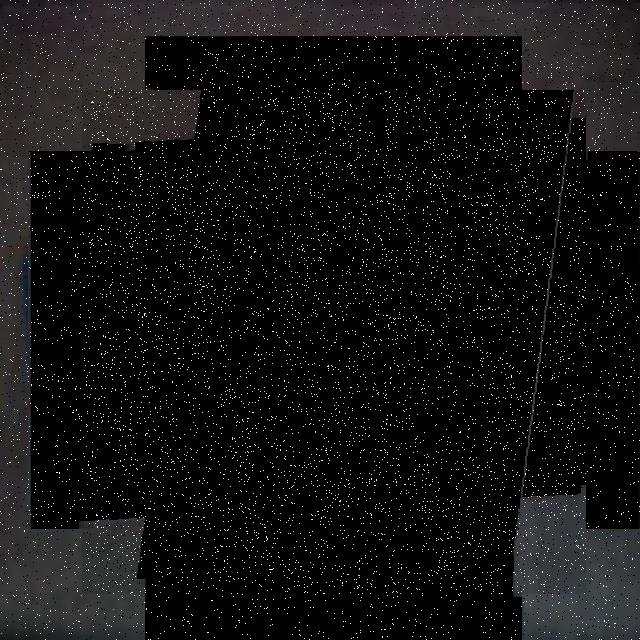dua puluh ribu rupiah: (82, 90, 586, 594)
